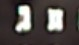MISSING: (9, 1, 36, 36), (42, 2, 69, 37)
